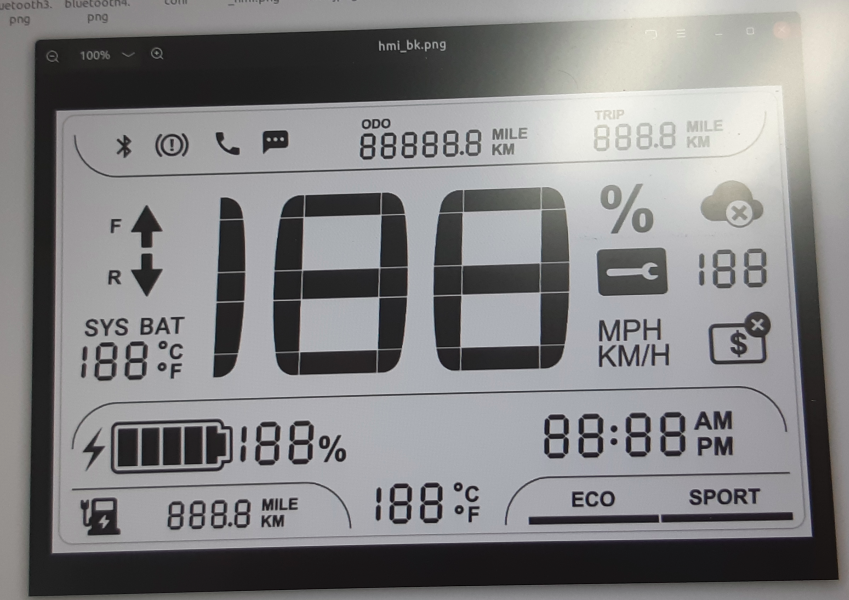bluetooth_on: (111, 131, 137, 159)
braking_on: (152, 131, 191, 160)
calling_on: (211, 128, 244, 159)
connection_lost: (696, 176, 768, 231)
error_code: (593, 244, 671, 300)
low_battery: (78, 495, 125, 538)
sms_on: (260, 128, 292, 157)
vin_id: (706, 309, 774, 367)
